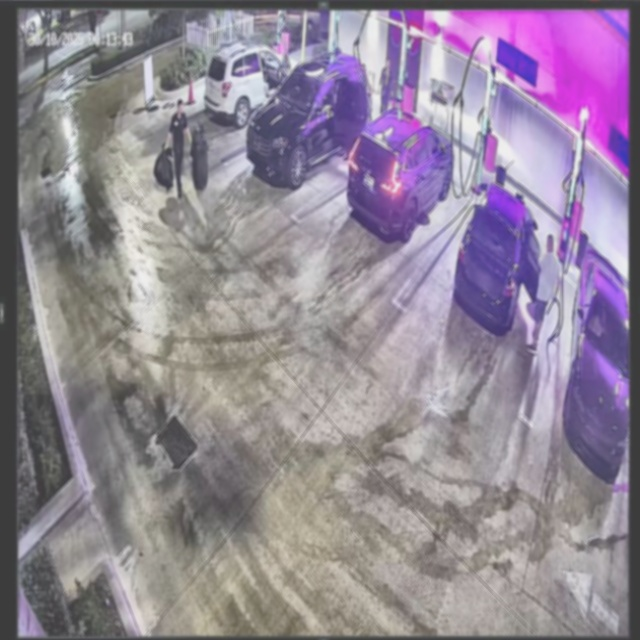Car: (248, 51, 375, 187), (444, 178, 547, 342), (346, 111, 453, 237)
